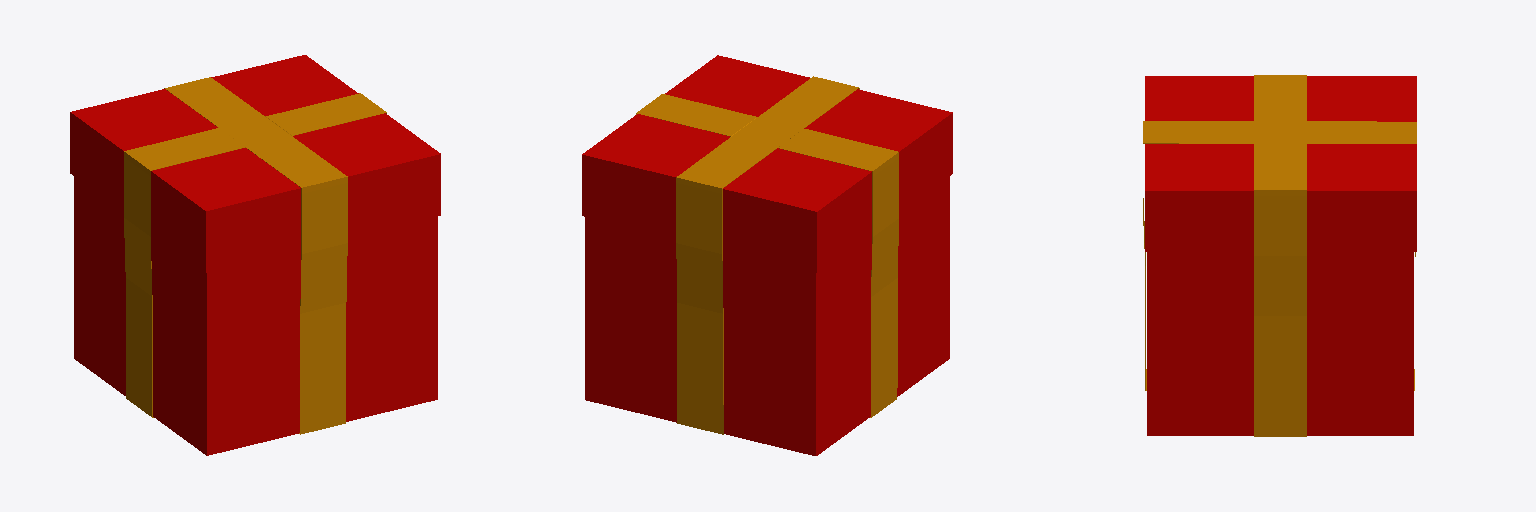
The model's file is gift_box.obj.
3 renders of one model, left to right at view 1: azimuth 30°, elevation 25°; view 2: azimuth 150°, elevation 25°; view 3: azimuth 270°, elevation 25°, orthographic.
Visible parts, largest first — view 1: obj3, obj2, obj1; view 2: obj3, obj2, obj1; view 3: obj3, obj2, obj1.
Part boxes in pixels (left/top/right/bottom): obj3: left=74, top=177, right=437, bottom=455; obj2: left=70, top=55, right=440, bottom=272; obj1: left=124, top=77, right=386, bottom=434; obj3: left=585, top=177, right=949, bottom=455; obj2: left=582, top=55, right=952, bottom=272; obj1: left=636, top=76, right=898, bottom=434; obj3: left=1147, top=252, right=1413, bottom=435; obj2: left=1145, top=76, right=1416, bottom=251; obj1: left=1143, top=75, right=1416, bottom=436.
Size of the model in its own units: 2.05 by 2.05 by 2.06.